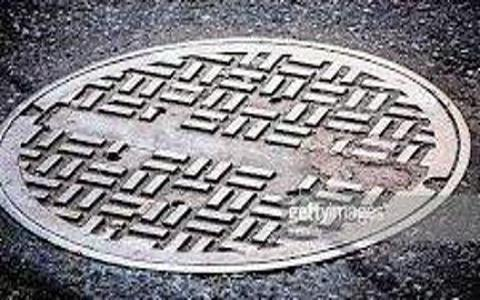proper manhole: (1, 33, 472, 282)
